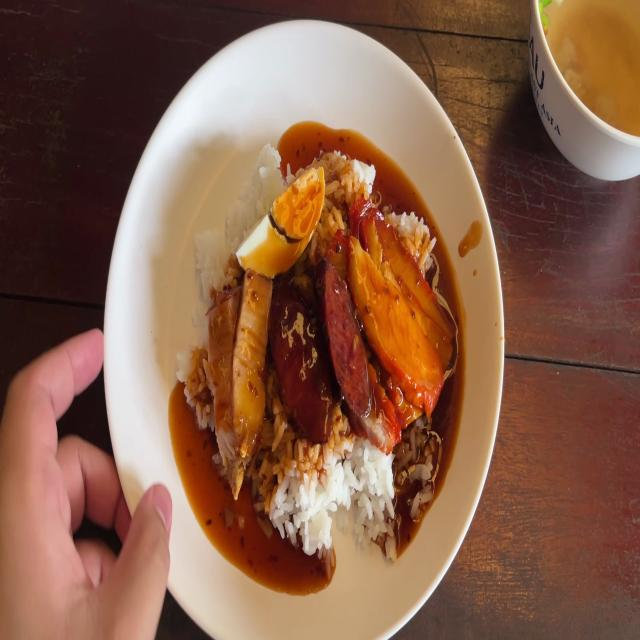01boiled_egg: (238, 168, 323, 268)
01chainese_sausage: (271, 262, 366, 429)
01crispy_pork: (210, 279, 270, 479)
01red_pork: (356, 216, 445, 390)
01red_pork_and_crispy_pork: (178, 143, 450, 552)
01rice: (266, 446, 384, 544)
